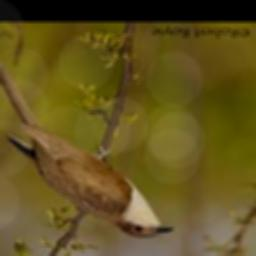Cuckoo: (0, 58, 175, 238)
